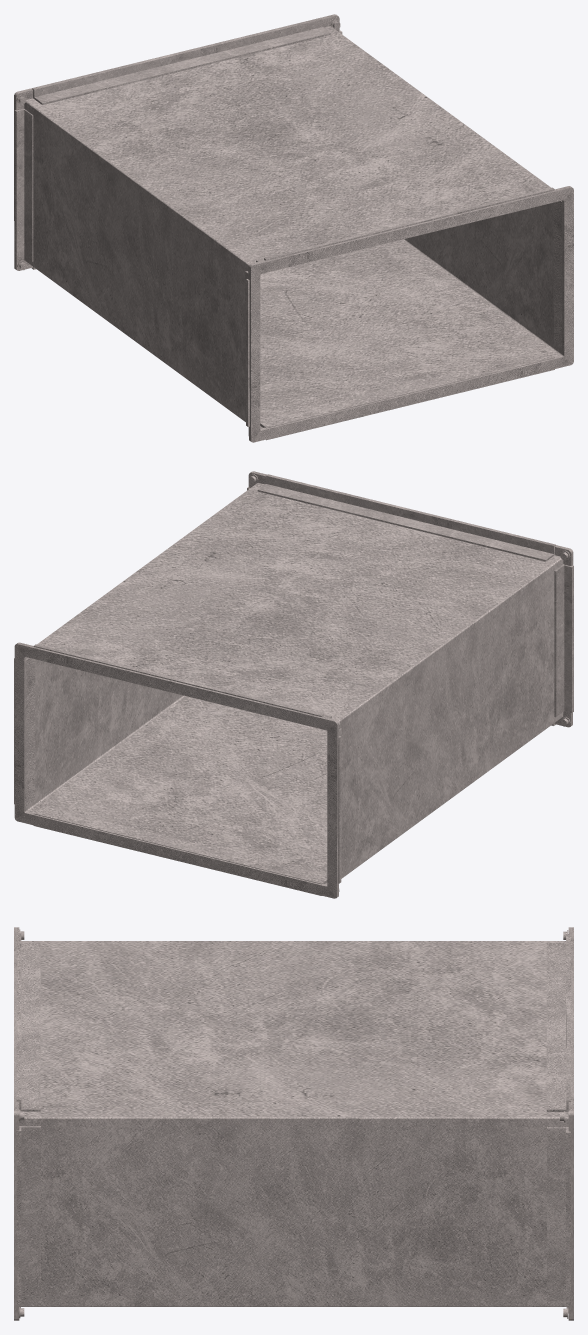
The model's file is SM_Square_Ducting_02k.glb.
The picture shows the model from 3 angles, top to bottom: view 1: azimuth 30°, elevation 25°; view 2: azimuth 150°, elevation 25°; view 3: azimuth 270°, elevation 25°; orthographic projection. The views are drawn at different scales.
Parts seen in each view (by area): view 1: SM_Square_Ducting_02k; view 2: SM_Square_Ducting_02k; view 3: SM_Square_Ducting_02k.
Part boxes in pixels (box(x1,y1,x2,y2)): SM_Square_Ducting_02k: box(14, 14, 573, 442); SM_Square_Ducting_02k: box(14, 471, 573, 898); SM_Square_Ducting_02k: box(14, 927, 573, 1320).
Size of the model in its own units: 0.797 by 0.4213 by 1.
Materials: 1 (1 with a texture image).
